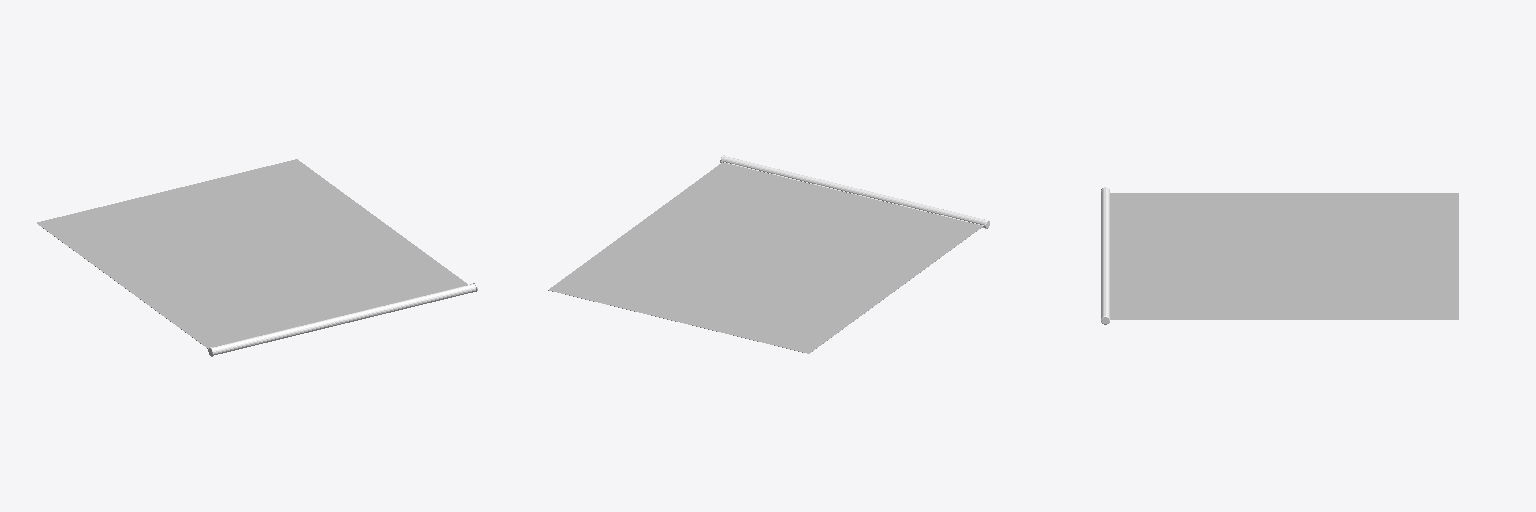
File: cast2.obj
3 renders of one model, left to right at view 1: azimuth 30°, elevation 25°; view 2: azimuth 150°, elevation 25°; view 3: azimuth 270°, elevation 25°, orthographic.
Parts seen in each view (by area): view 1: Cylinder.001; view 2: Cylinder.001; view 3: Cylinder.001.
Boxes of the visible parts, <box> form: Cylinder.001: <box>37,159,477,356</box>; Cylinder.001: <box>548,155,989,353</box>; Cylinder.001: <box>1101,187,1458,324</box>.
Bounding box in the file's own units: 1.26 × 0.0388 × 1.47.